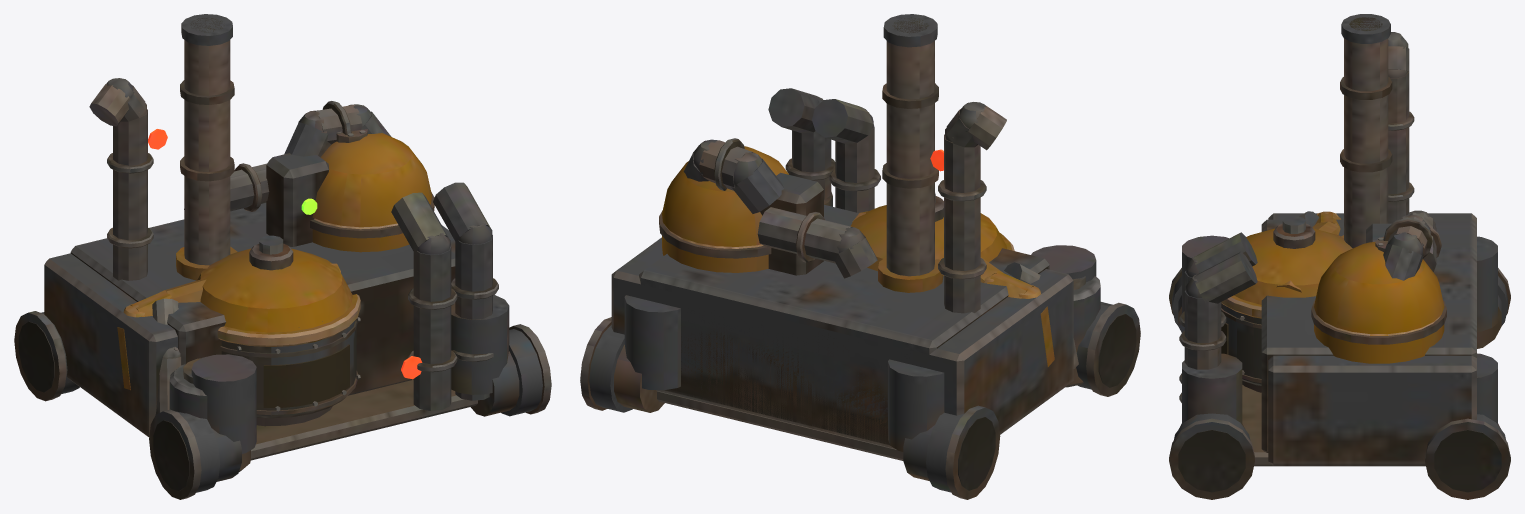
The model's file is chemical-plant-west.glb.
3 views of the same model, side by side, from view 1: azimuth 30°, elevation 25°; view 2: azimuth 150°, elevation 25°; view 3: azimuth 270°, elevation 25° (orthographic). The views are drawn at different scales.
Visible parts, largest first — view 1: body; view 2: body; view 3: body.
Boxes of the visible parts, bbox=[...] form: body: bbox=[14, 14, 551, 499]; body: bbox=[580, 14, 1140, 499]; body: bbox=[1169, 14, 1510, 499].
Size of the model in its own units: 3.01 by 3.08 by 2.62.
3 materials, 3 textured.
